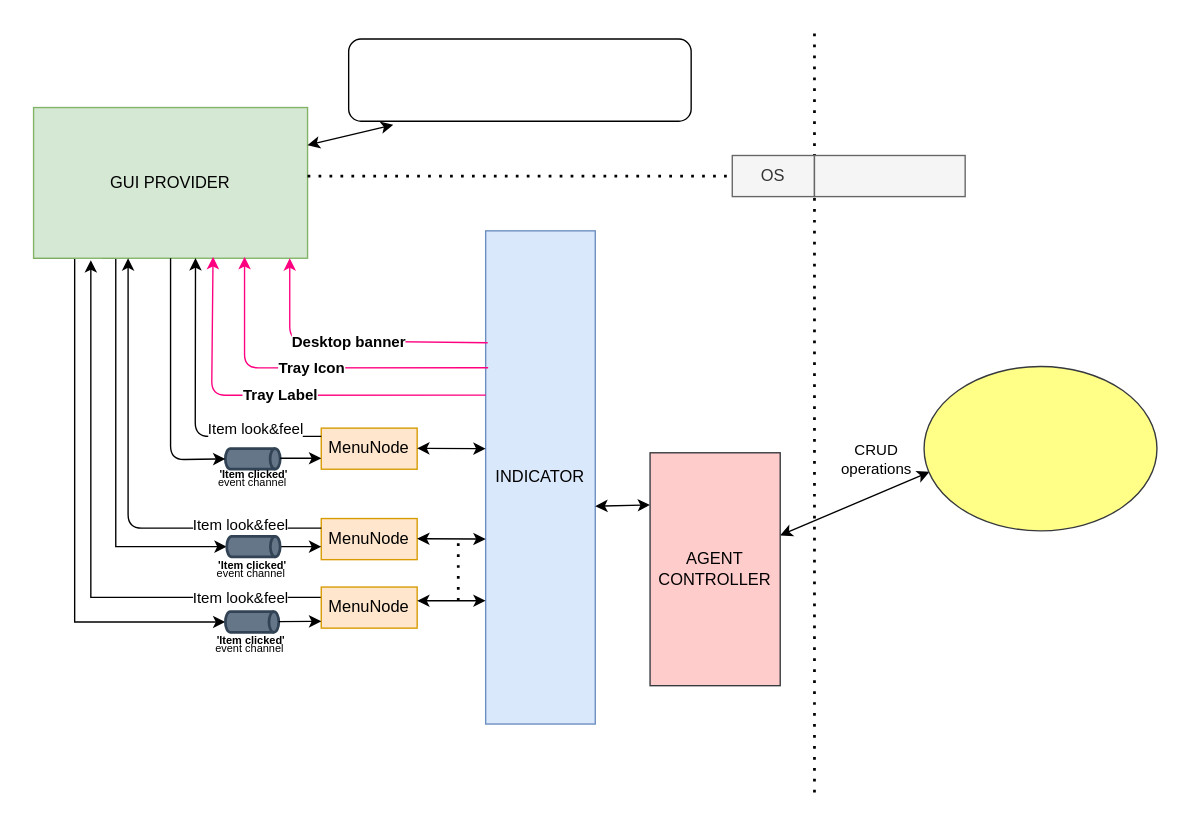
This 1181x818 diagram has some shape labels left out. The shapes that lost their labels are listed below. From the top down, each one's centre as x and y in pixels, then its label:
At (519,79): "OS GRAPHIC SERVER ( X )".
At (889,175): "Liqo Cluster".
At (1040,448): "LIQO CRDs".
